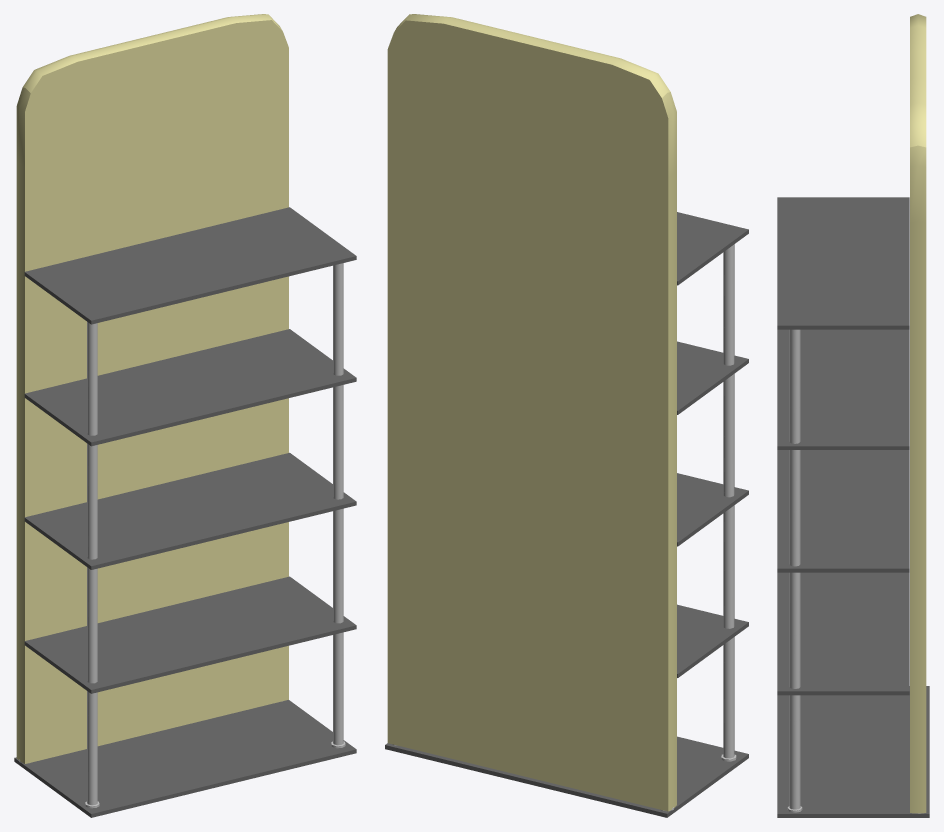
Rendered from Showtime.glb.
3 renders of one model, left to right at view 1: azimuth 30°, elevation 25°; view 2: azimuth 150°, elevation 25°; view 3: azimuth 270°, elevation 25°, orthographic. The views are drawn at different scales.
Parts seen in each view (by area): view 1: QuickZip Showtime; view 2: QuickZip Showtime; view 3: QuickZip Showtime.
Boxes of the visible parts, x1,y1,x2,y2 form: QuickZip Showtime: (14,14,356,817); QuickZip Showtime: (385,14,748,817); QuickZip Showtime: (777,14,929,817).
Bounding box in the file's own units: 0.9144 × 2.29 × 0.4572.
